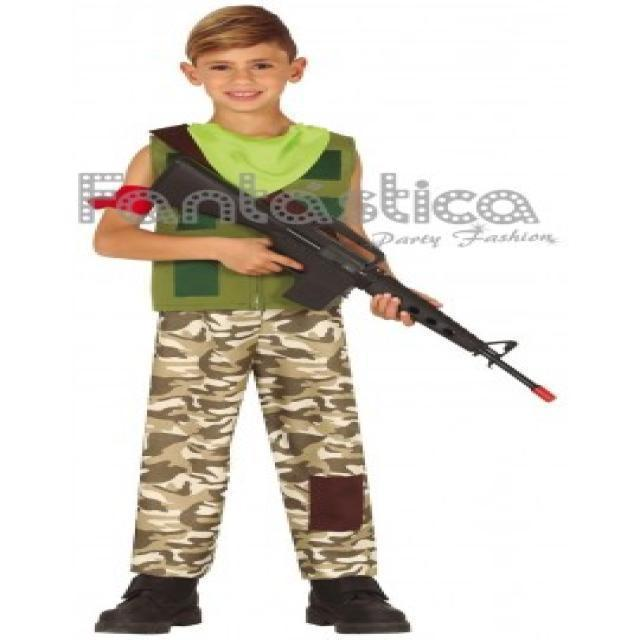Rifle: (147, 158, 559, 402)
